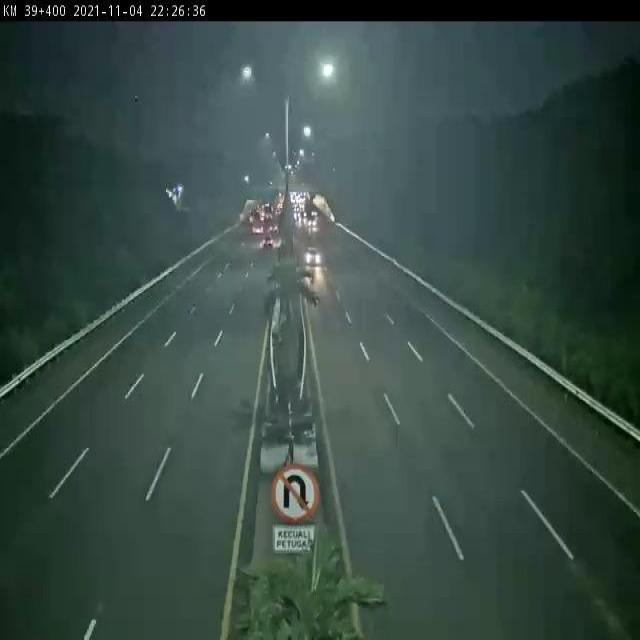car: (305, 241, 324, 268), (259, 234, 276, 250)
